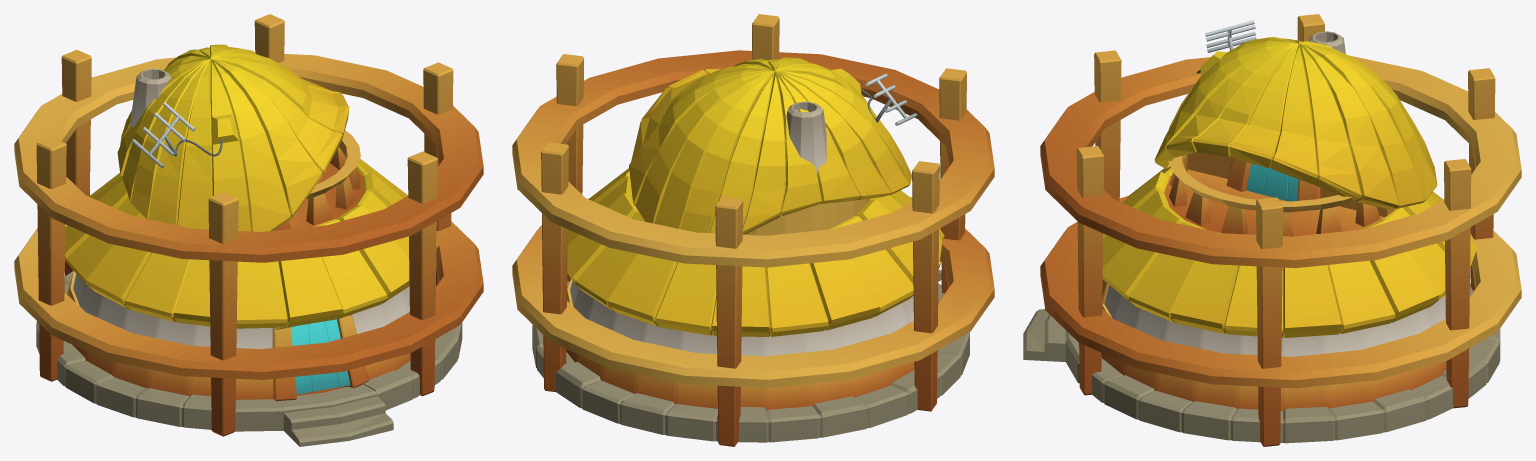
File: House_with_Constraction.FBX
3 renders of one model, left to right at view 1: azimuth 30°, elevation 25°; view 2: azimuth 150°, elevation 25°; view 3: azimuth 270°, elevation 25°, orthographic. The views are drawn at different scales.
Parts seen in each view (by area): view 1: Constraction, Constraction_3, Constraction_1, Constraction_2; view 2: Constraction, Constraction_3, Constraction_1, Constraction_2; view 3: Constraction, Constraction_3, Constraction_1, Constraction_2.
Boxes of the visible parts, x1,y1,x2,y2 form: Constraction: (14,14,483,436); Constraction_3: (117,44,364,231); Constraction_1: (36,270,462,446); Constraction_2: (65,158,437,328); Constraction: (512,14,994,446); Constraction_3: (629,57,917,235); Constraction_1: (532,269,969,442); Constraction_2: (567,168,944,336); Constraction: (1040,14,1521,446); Constraction_3: (1154,20,1437,236); Constraction_1: (1023,279,1500,443); Constraction_2: (1102,166,1477,337).
Bounding box in the file's own units: 121 × 80.7 × 124.
Materials: 1 (1 with a texture image).
